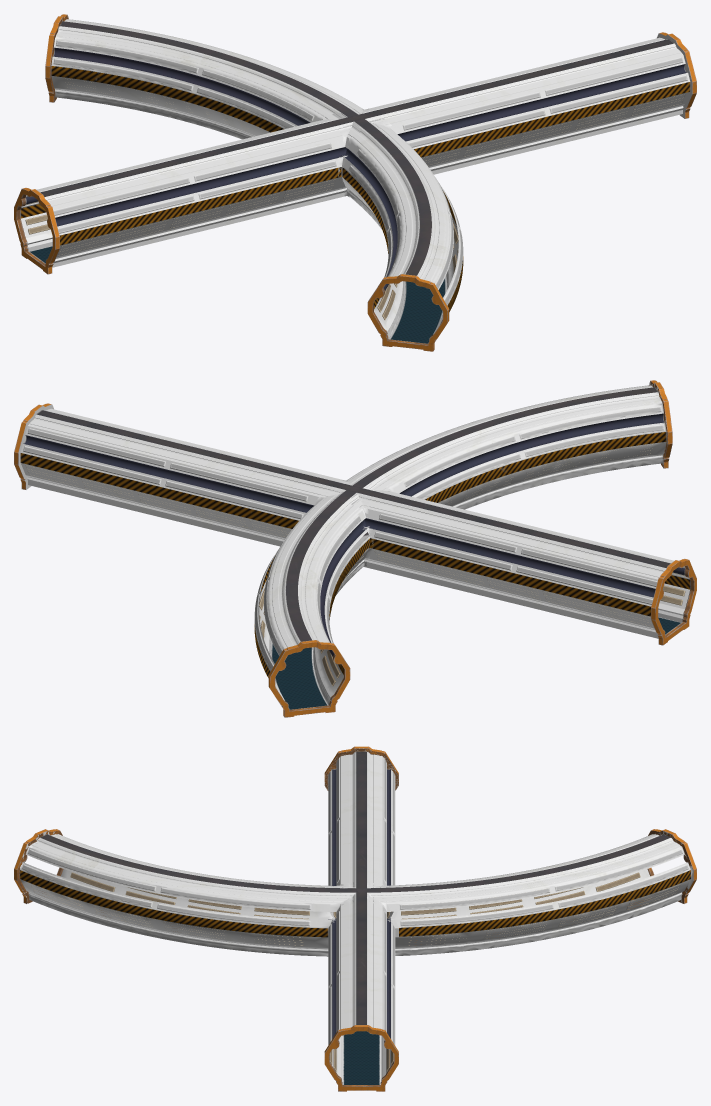
File: sci-fi_access_hall.glb
3 renders of one model, top to bottom at view 1: azimuth 30°, elevation 25°; view 2: azimuth 150°, elevation 25°; view 3: azimuth 270°, elevation 25°, orthographic. The views are drawn at different scales.
Visible parts, largest first — view 1: HALL1, DOORS; view 2: HALL1, DOORS; view 3: HALL1, DOORS.
Part boxes in pixels (bbox=[...]): HALL1: bbox=[20, 15, 692, 343]; DOORS: bbox=[14, 14, 696, 351]; HALL1: bbox=[18, 381, 690, 709]; DOORS: bbox=[14, 380, 696, 717]; HALL1: bbox=[20, 748, 693, 1084]; DOORS: bbox=[14, 746, 696, 1091].
Size of the model in its own units: 23561 by 2529 by 24242.
2 materials, 2 textured.
